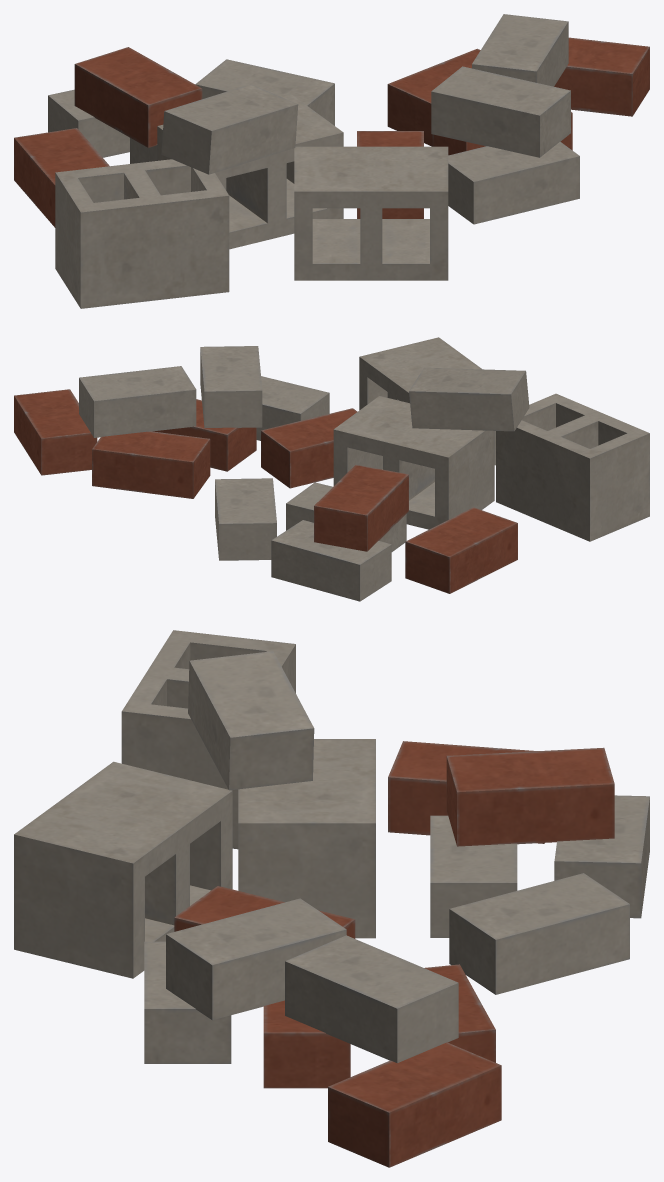
Rendered from Garbage_10.fbx.
The picture shows the model from 3 angles, top to bottom: view 1: azimuth 30°, elevation 25°; view 2: azimuth 150°, elevation 25°; view 3: azimuth 270°, elevation 25°; orthographic projection. The views are drawn at different scales.
Parts seen in each view (by area): view 1: polySurface1141; view 2: polySurface1141; view 3: polySurface1141.
Part boxes in pixels (box(x1,y1,x2,y2)): polySurface1141: box(14, 14, 649, 308); polySurface1141: box(14, 337, 649, 601); polySurface1141: box(14, 630, 649, 1167).
Bounding box in the file's own units: 259 × 53.42 × 169.
